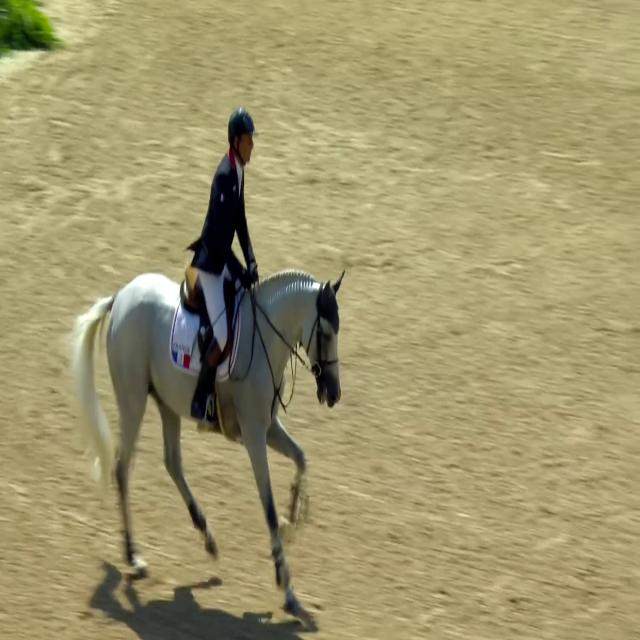Horse Rider: (182, 117, 284, 321)
Horse Running: (60, 241, 368, 607)
